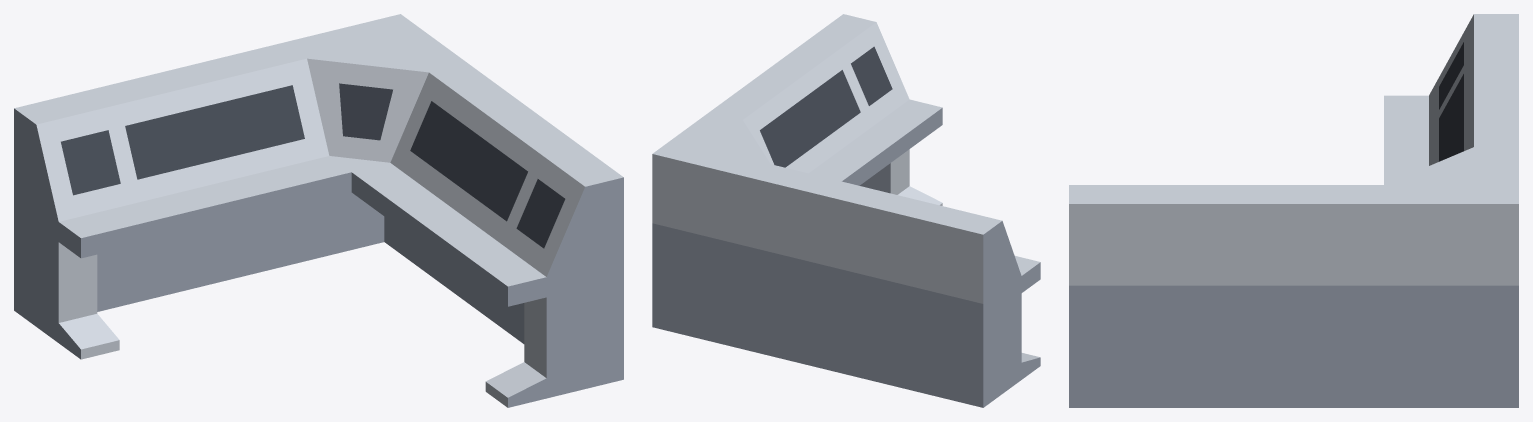
The model's file is desk_computerCorner.obj.
The picture shows the model from 3 angles, left to right: view 1: azimuth 30°, elevation 25°; view 2: azimuth 150°, elevation 25°; view 3: azimuth 270°, elevation 25°; orthographic projection. The views are drawn at different scales.
Visible parts, largest first — view 1: desk_computerCorner; view 2: desk_computerCorner; view 3: desk_computerCorner.
Boxes of the visible parts, <box> form: desk_computerCorner: <box>14,14,623,407</box>; desk_computerCorner: <box>652,14,1040,407</box>; desk_computerCorner: <box>1069,14,1518,407</box>.
Size of the model in its own units: 0.75 by 0.375 by 0.75.
